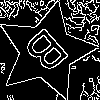B: (21, 26, 78, 83)
